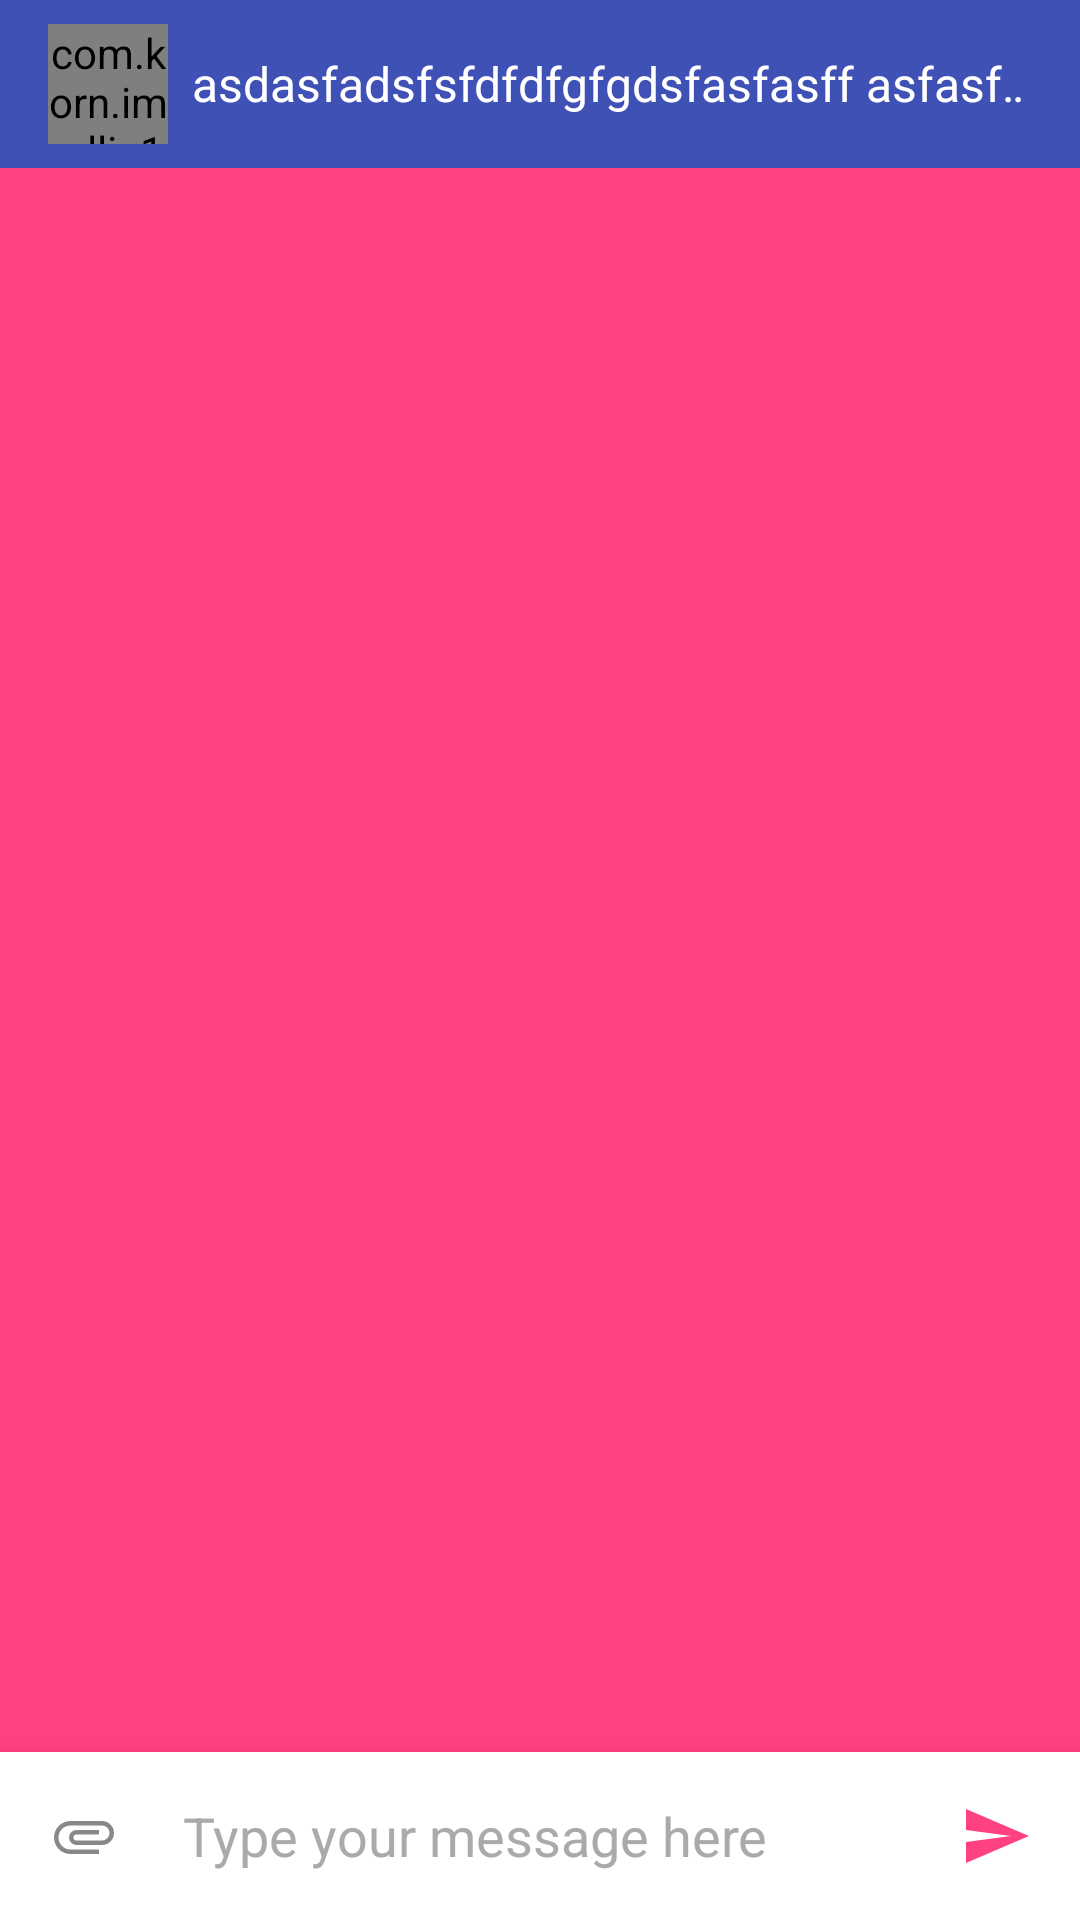

Icons on this 1080px×1920px Android screen, each with its box as (x1, y1, x2, y2):
attachments: (54, 1821, 114, 1854)
send: (966, 1809, 1029, 1863)
